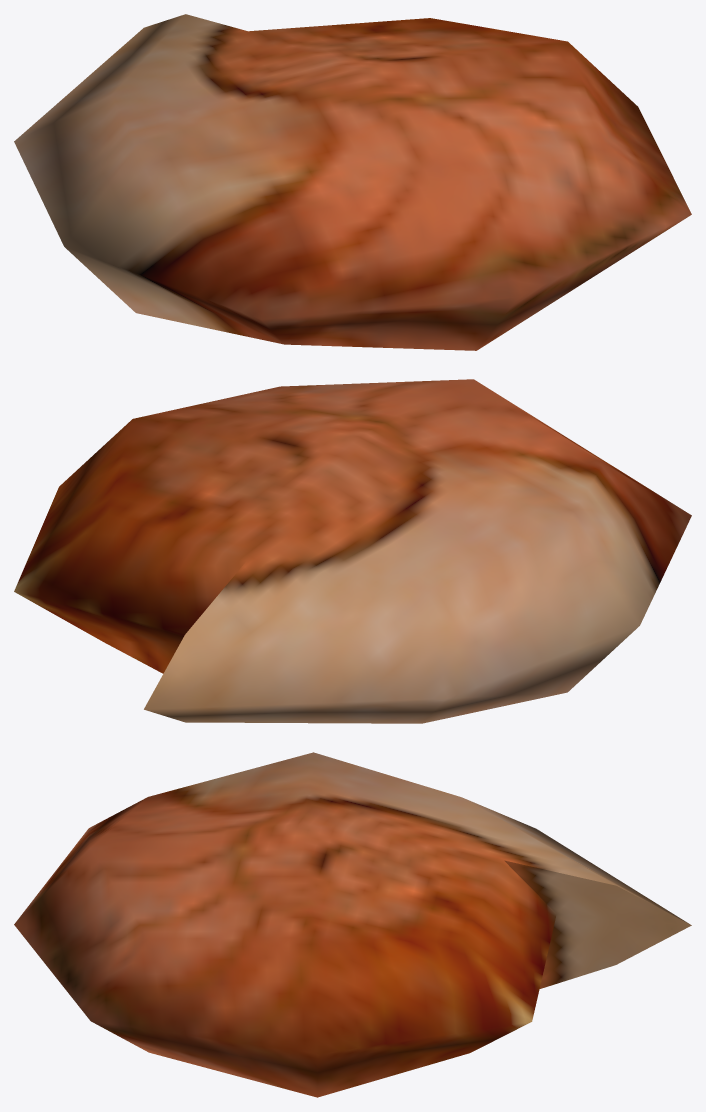
The model's file is Colony_Shell_Art.fbx.
3 renders of one model, top to bottom at view 1: azimuth 30°, elevation 25°; view 2: azimuth 150°, elevation 25°; view 3: azimuth 270°, elevation 25°, orthographic. The views are drawn at different scales.
Parts seen in each view (by area): view 1: Colony_Shell_Art; view 2: Colony_Shell_Art; view 3: Colony_Shell_Art.
Boxes of the visible parts, x1,y1,x2,y2 form: Colony_Shell_Art: (14, 14, 691, 350); Colony_Shell_Art: (14, 379, 691, 723); Colony_Shell_Art: (14, 752, 691, 1097).
Size of the model in its own units: 197 by 72.87 by 220.
